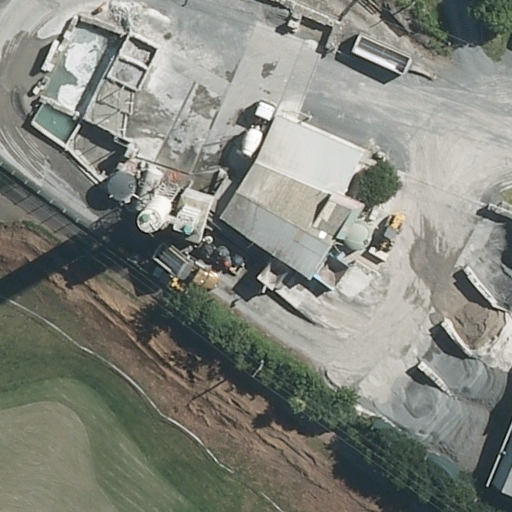DT: (251, 360, 266, 377)
